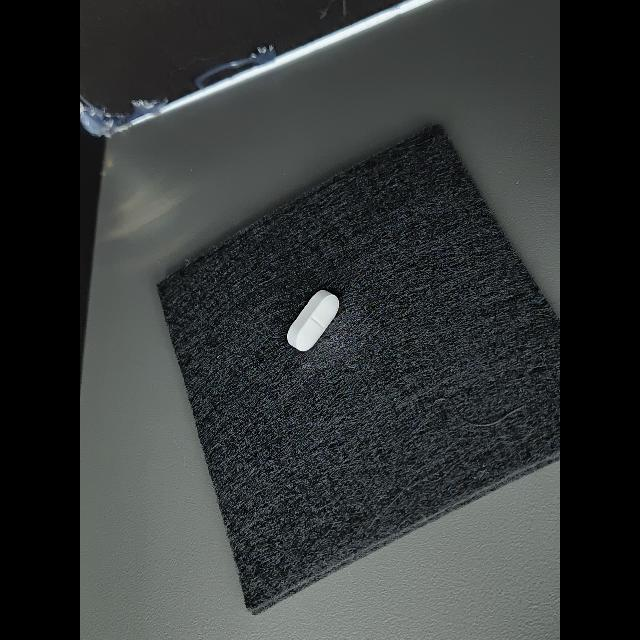Intact Pill: (287, 290, 339, 351)
